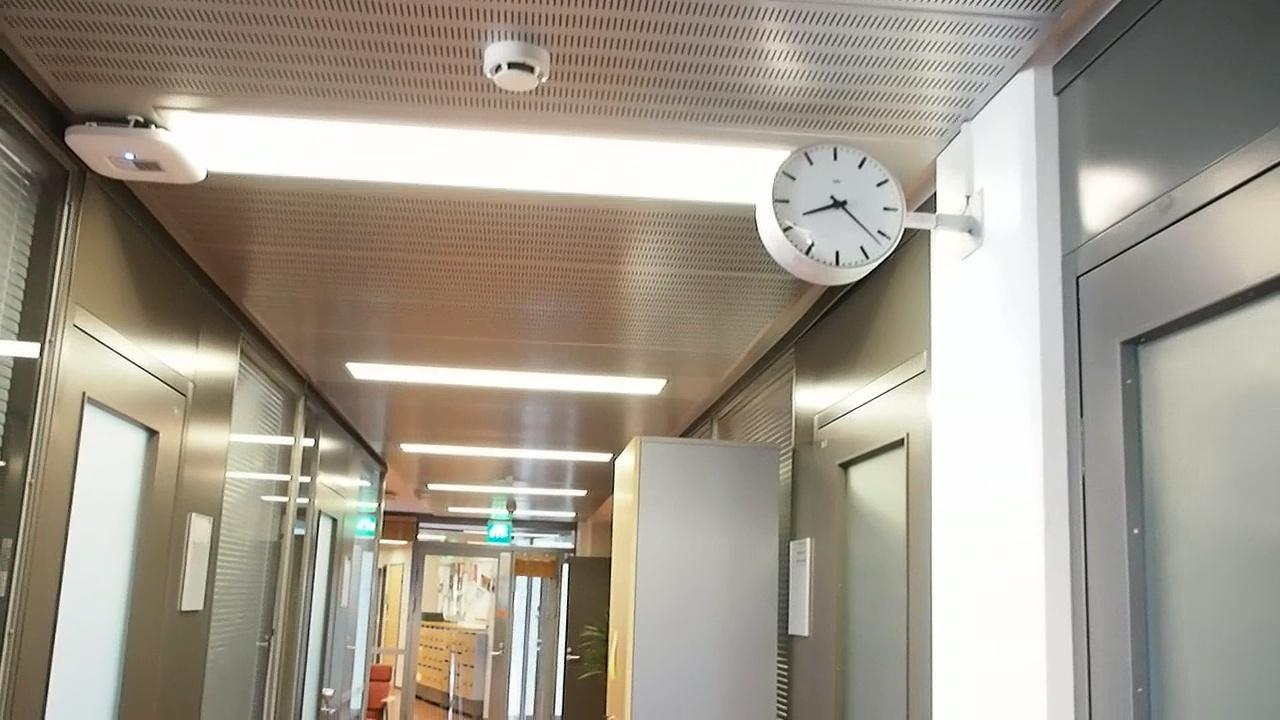clock: (763, 137, 910, 279)
